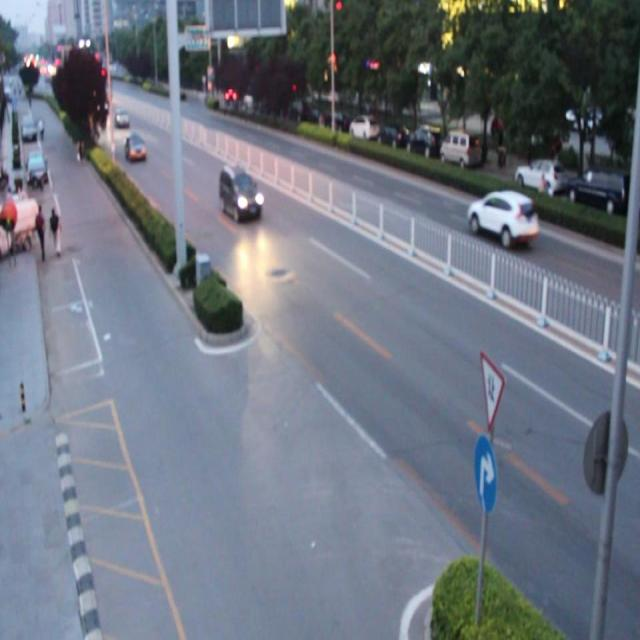car: (466, 190, 538, 248), (217, 165, 262, 222), (125, 133, 146, 161)
